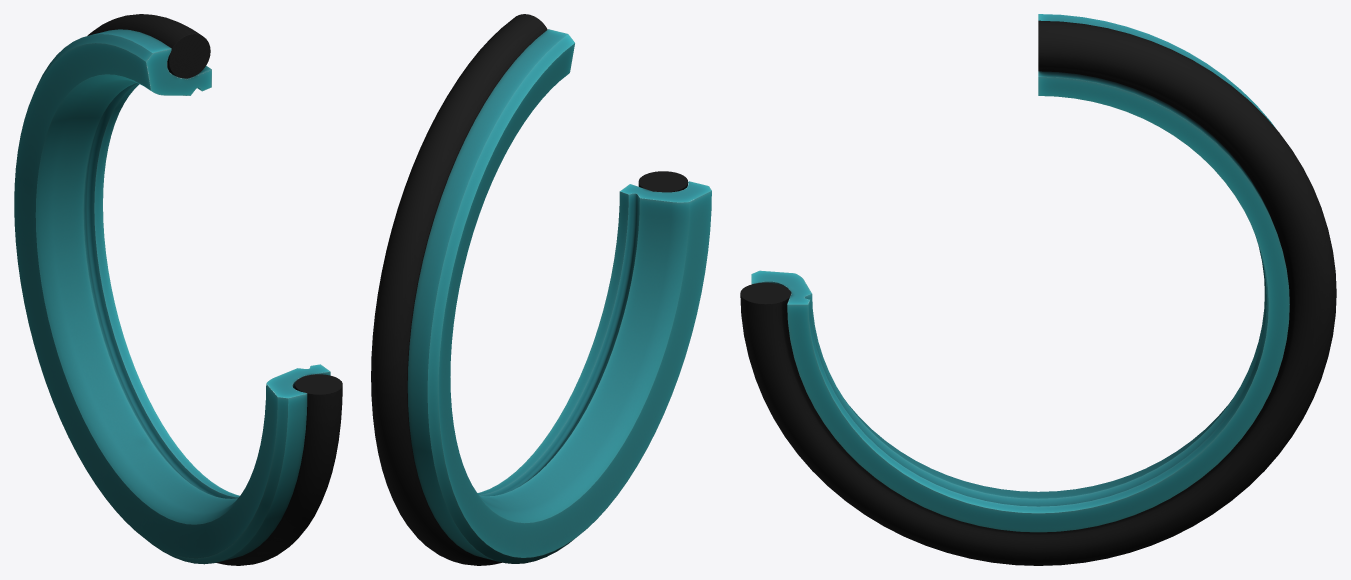
3 renders of one model, left to right at view 1: azimuth 30°, elevation 25°; view 2: azimuth 150°, elevation 25°; view 3: azimuth 270°, elevation 25°, orthographic. The views are drawn at different scales.
Visible parts, largest first — view 1: Turcon® VL Seal® II_3/4th 1, Turcon® VL Seal® II_3/4th 2; view 2: Turcon® VL Seal® II_3/4th 1, Turcon® VL Seal® II_3/4th 2; view 3: Turcon® VL Seal® II_3/4th 2, Turcon® VL Seal® II_3/4th 1.
Boxes of the visible parts, x1,y1,x2,y2 form: Turcon® VL Seal® II_3/4th 1: (14, 29, 330, 564); Turcon® VL Seal® II_3/4th 2: (87, 14, 342, 565); Turcon® VL Seal® II_3/4th 1: (407, 29, 711, 563); Turcon® VL Seal® II_3/4th 2: (371, 14, 688, 565); Turcon® VL Seal® II_3/4th 2: (740, 20, 1336, 565); Turcon® VL Seal® II_3/4th 1: (751, 14, 1289, 532).
Size of what is drawn, in the model's own units: 0.0534 by 0.3958 by 0.3958.
2 materials, 2 textured.
